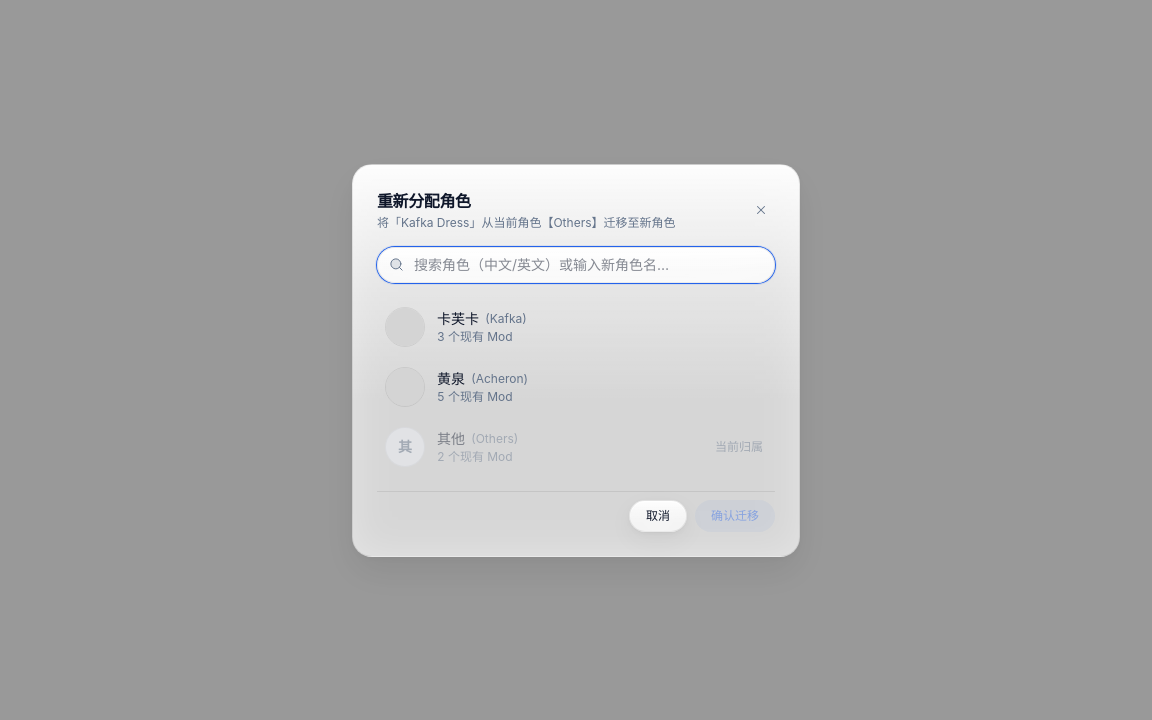
Test case: ReassignCharacterModal › 支持搜索过滤角色
Type "黄泉" into the field with placeholder "搜索角色（中文/英文）或输入新角色名…" at (576, 264), box x1=377 y1=246 x2=775 y2=282
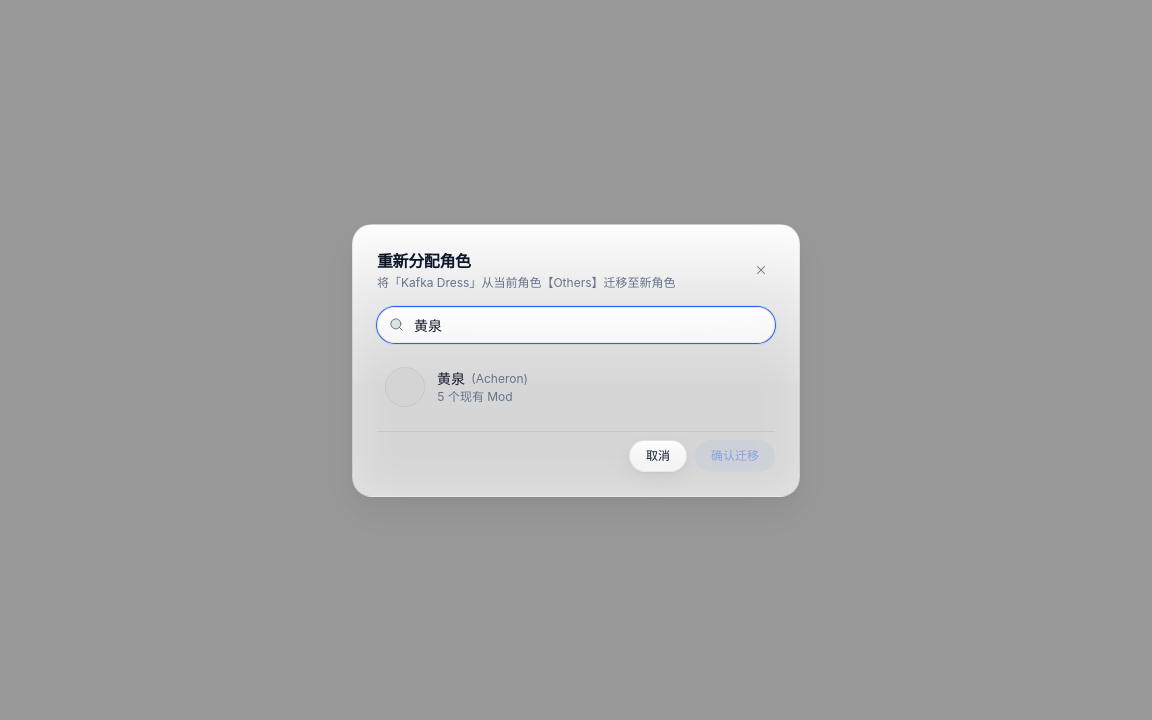
expect the text "黄泉" is shown: met, box x1=437 y1=368 x2=465 y2=388
expect the button "卡芙卡" is gone: met
